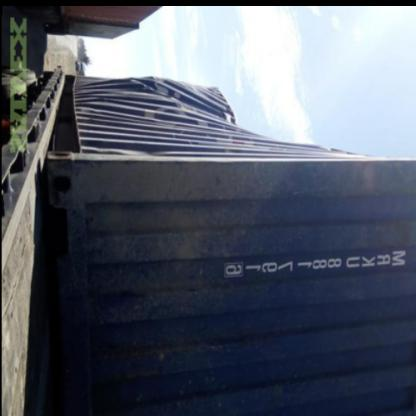Damage: (74, 69, 250, 144)
